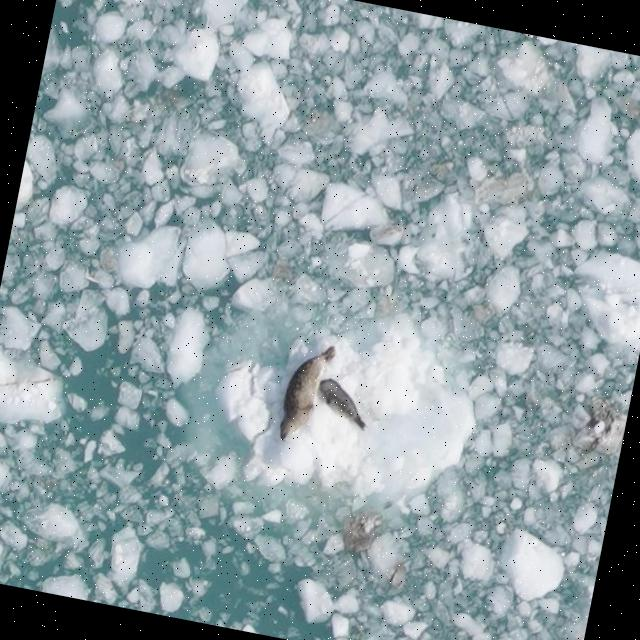seal: (267, 336, 336, 447), (311, 369, 370, 441)
